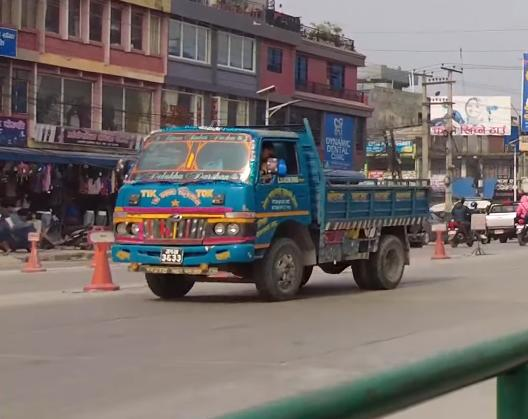bike: (514, 210, 528, 249)
mini_truck: (104, 113, 442, 299)
scooter: (445, 204, 477, 247)
